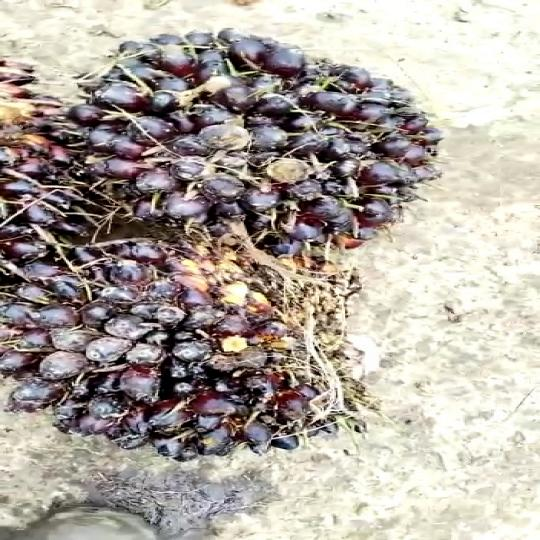mentah: (0, 238, 423, 461), (63, 17, 436, 250)
